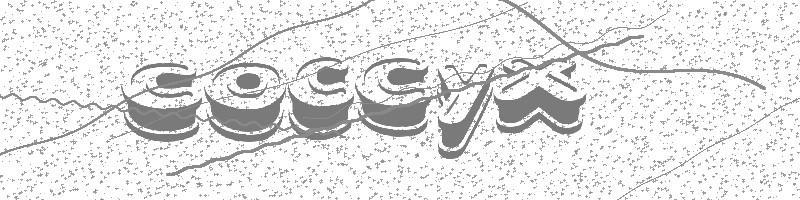c: (122, 61, 203, 142), (356, 56, 431, 138), (289, 55, 354, 140)
o: (205, 61, 287, 142)
x: (494, 57, 588, 135)
y: (434, 62, 492, 162)
